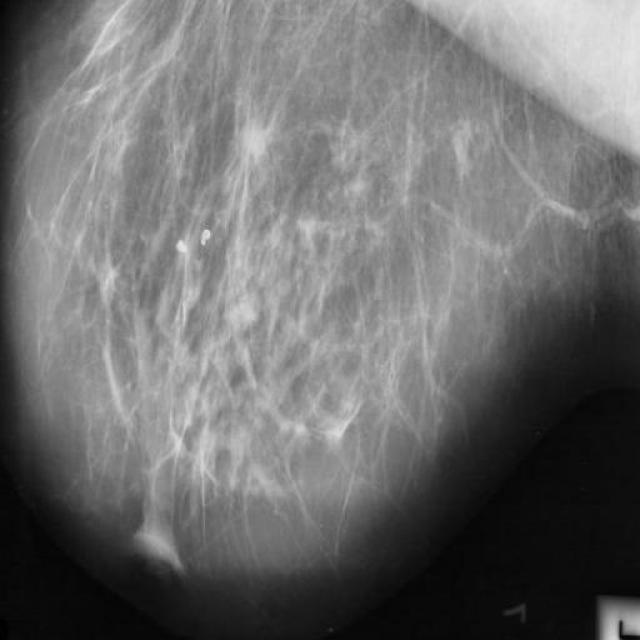cancer: (151, 405, 210, 489)
